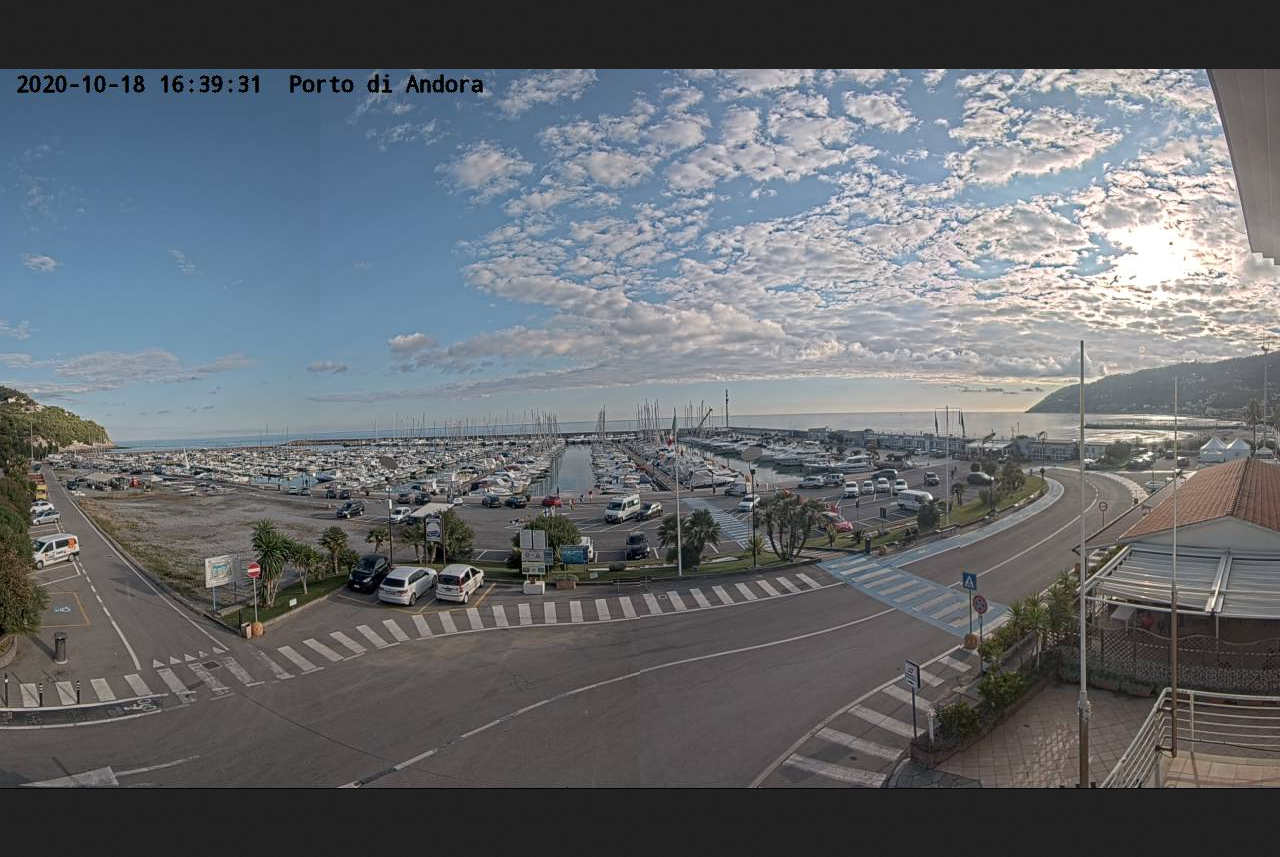no: (666, 408, 680, 444)
